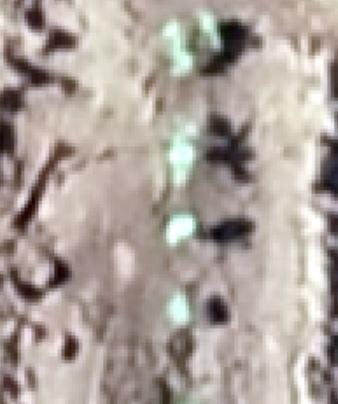cotton: (167, 25, 192, 71), (173, 138, 192, 178), (166, 215, 197, 239), (169, 295, 192, 324), (204, 16, 222, 47)
